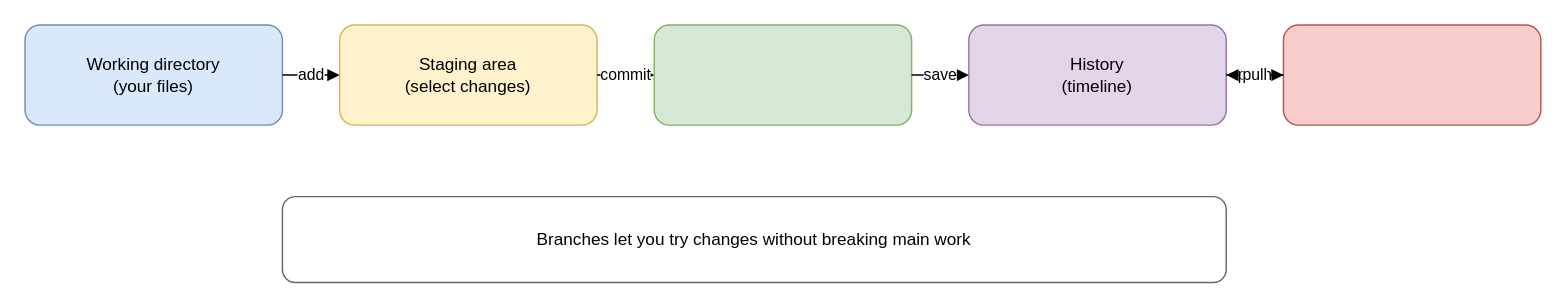
Some shapes in this 1566 by 307 pixel diagram are drawn without their labels. The shapes that lost their labels are listed below. From the top down, each one's box as (x1, y1, x2, y2) in pixels, then its label:
(653, 24, 912, 125): Commit (snapshot)
(1282, 24, 1541, 125): Remote repo (GitHub / GitLab)
